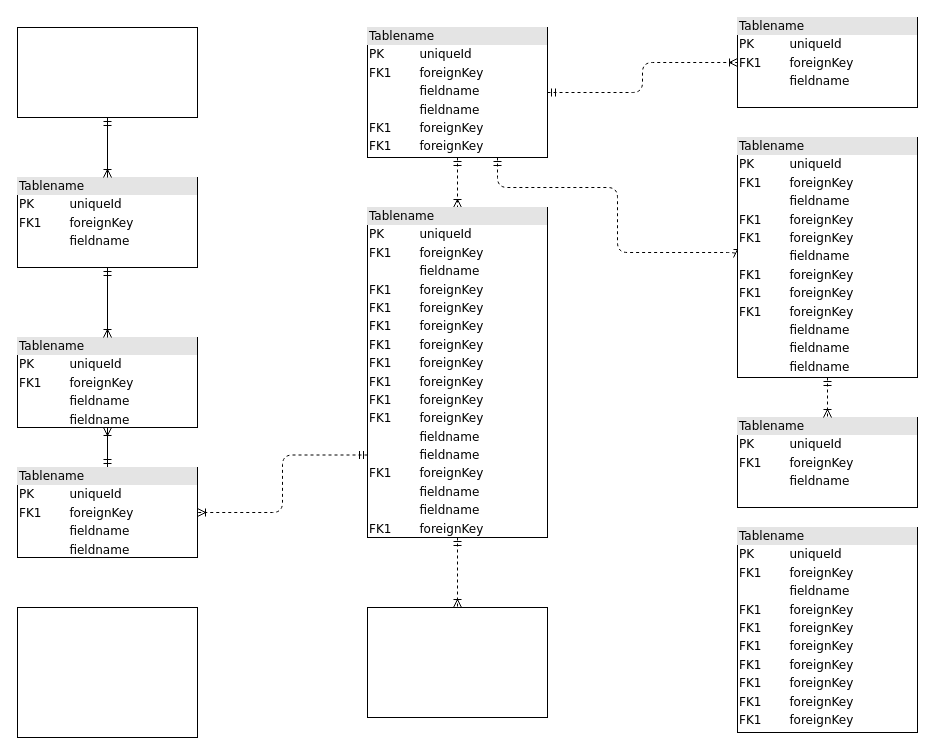
This 935x755 diagram has some shape labels left out. Each missing label, with the box of its shape:
Tablename PK uniqueId FK1 foreignKey fieldname fieldname fieldname fieldname: (16, 606, 198, 738)
Tablename PK uniqueId FK1 foreignKey fieldname fieldname FK1 foreignKey: (366, 606, 548, 718)
users nickname mailaddress password name: (16, 26, 198, 118)
